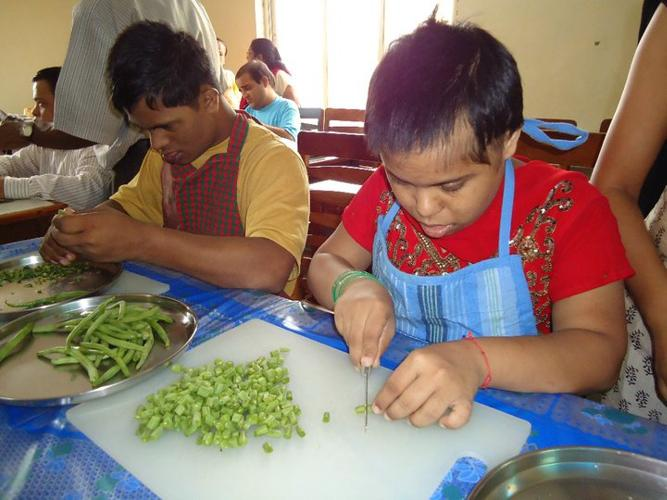person: (306, 18, 634, 432)
